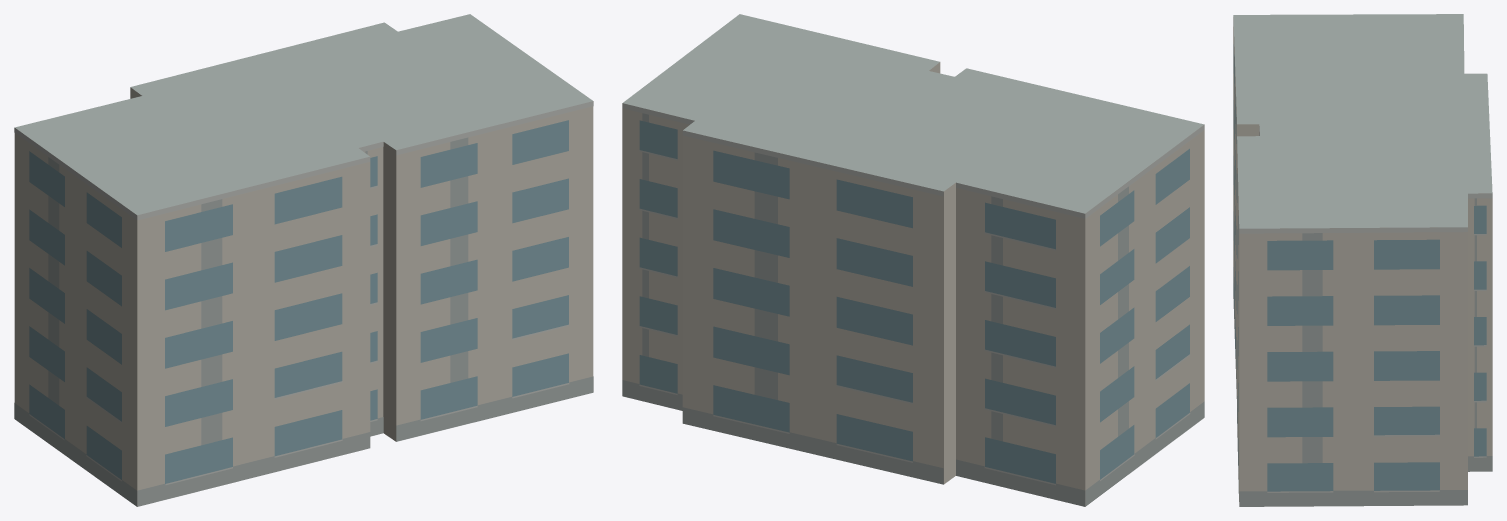
File: survey-upis-32864654.glb
3 views of the same model, side by side, from view 1: azimuth 30°, elevation 25°; view 2: azimuth 150°, elevation 25°; view 3: azimuth 270°, elevation 25° (orthographic). The views are drawn at different scales.
Parts seen in each view (by area): view 1: survey-upis-32864654.tmp; view 2: survey-upis-32864654.tmp; view 3: survey-upis-32864654.tmp.
Part boxes in pixels (<box>): survey-upis-32864654.tmp: <box>14,14,593,506</box>; survey-upis-32864654.tmp: <box>622,14,1204,506</box>; survey-upis-32864654.tmp: <box>1233,14,1492,506</box>.
Bounding box in the file's own units: 22.86 × 13.8 × 11.66.
